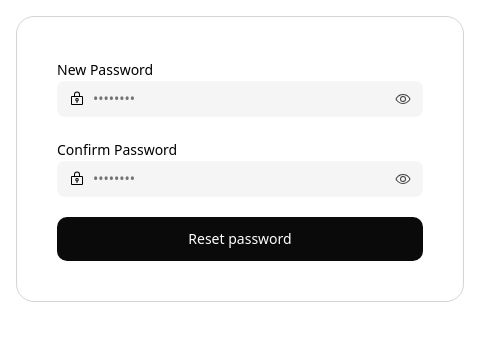
Scenario: ResetPasswordForm › should display validation error when passwords do not match
The width and height of the screenshot is (481, 349).
Type "password123" into the password field labelled "New Password". click: (240, 99)
box: [57, 81, 423, 117]
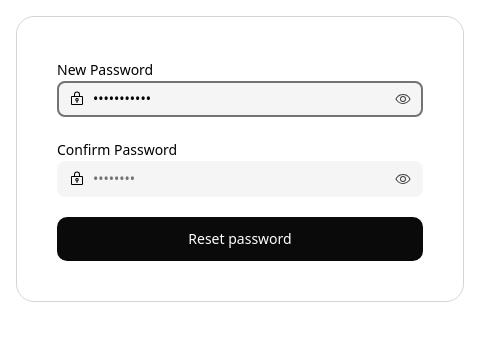
Type "password456" into the password field labelled "Confirm Password". click: (240, 179)
box: [57, 161, 423, 197]
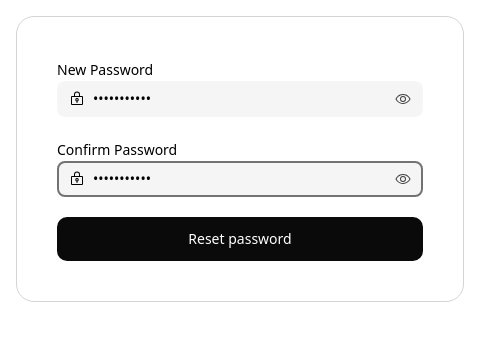
Click the button "Reset password". click: (240, 239)
box: [57, 217, 423, 261]
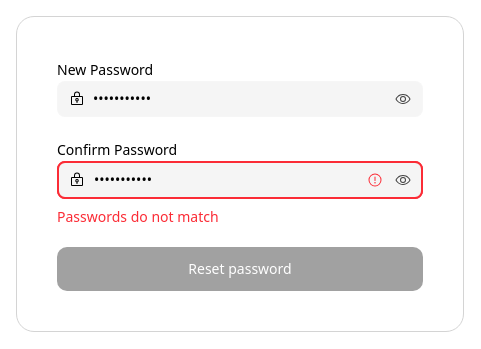
Now the text "Passwords do not match" is shown, box [57, 207, 219, 226]
